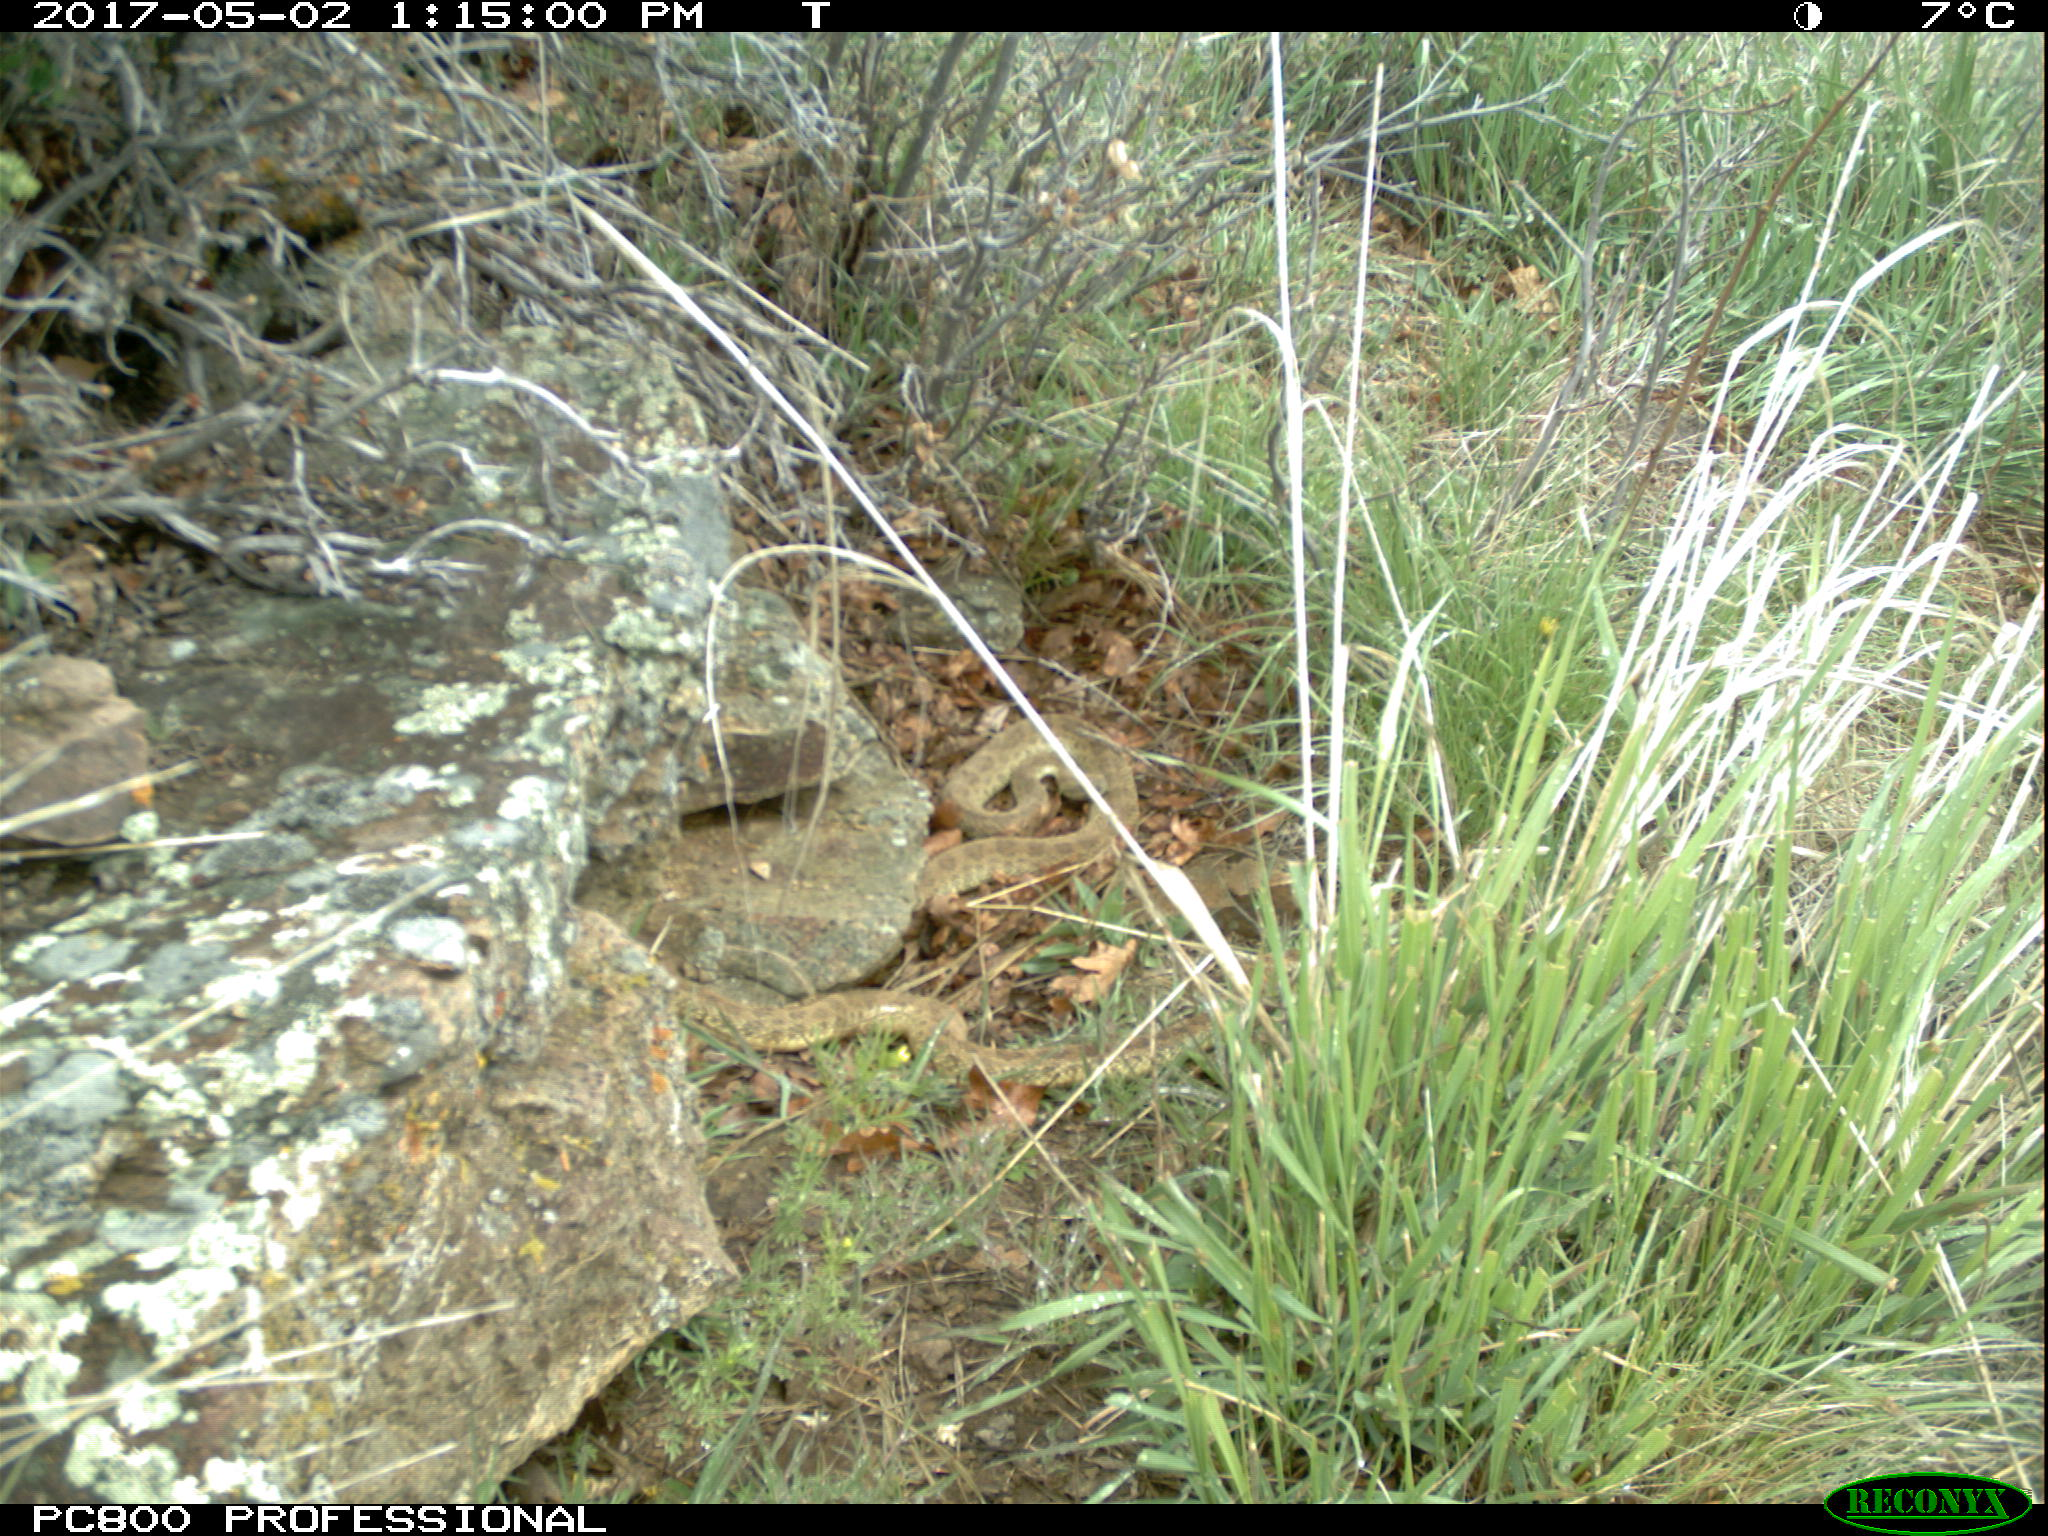snake: (660, 970, 1229, 1100), (921, 707, 1143, 915)
